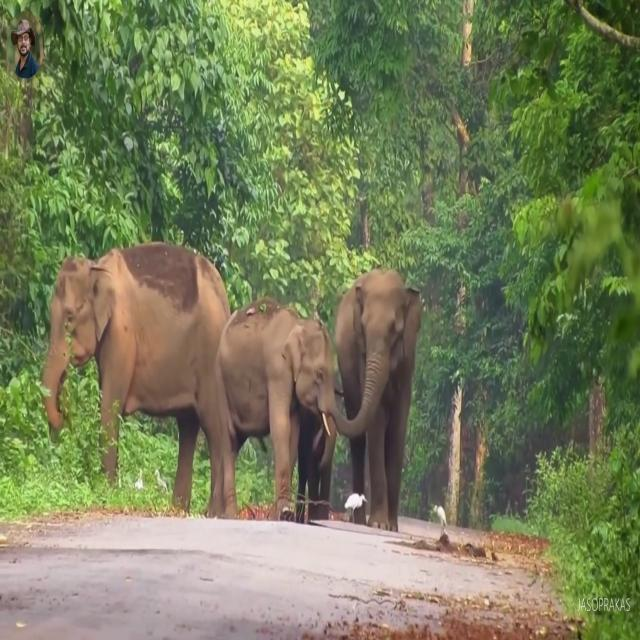Elephant: (40, 241, 232, 517), (208, 296, 377, 522), (327, 266, 422, 532)
person: (10, 18, 40, 79)
